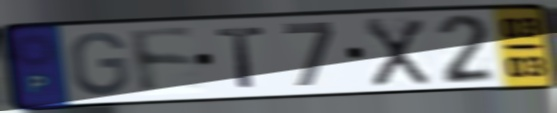2: (434, 13, 497, 87)
7: (279, 19, 340, 90)
F: (126, 26, 201, 98)
G: (68, 30, 132, 98)
T: (213, 24, 269, 90)
X: (362, 17, 432, 89)
